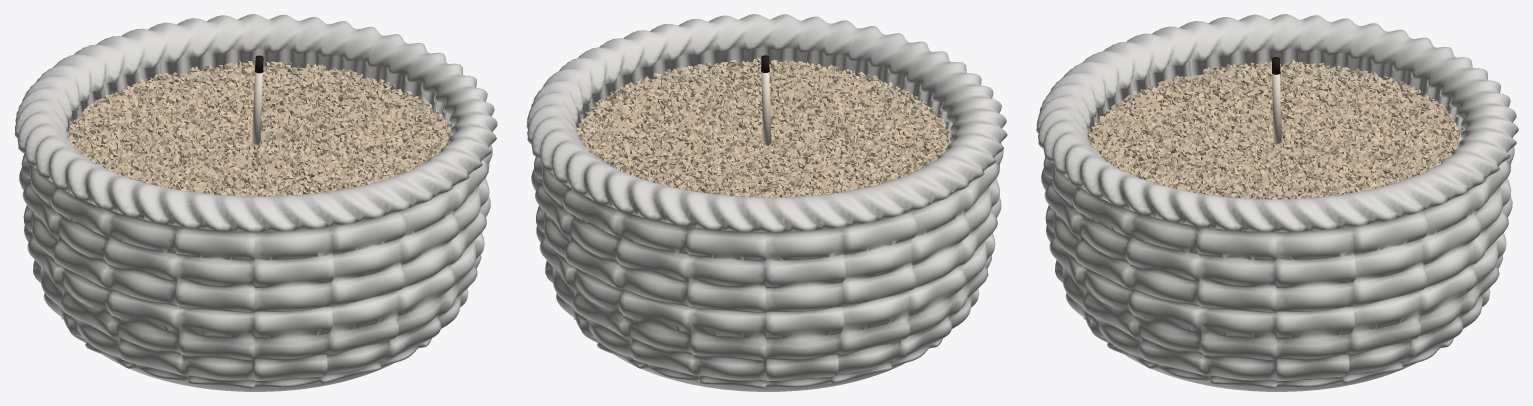
File: ninho.glb
The picture shows the model from 3 angles, left to right: view 1: azimuth 30°, elevation 25°; view 2: azimuth 150°, elevation 25°; view 3: azimuth 270°, elevation 25°; orthographic projection.
Visible parts, largest first — view 1: Ninho, Areia, Pavio0; view 2: Ninho, Areia, Pavio0; view 3: Ninho, Areia, Pavio0.
Part boxes in pixels (bbox=[...]): Ninho: bbox=[14, 14, 497, 391]; Areia: bbox=[67, 60, 451, 196]; Pavio0: bbox=[251, 72, 262, 148]; Ninho: bbox=[526, 14, 1007, 391]; Areia: bbox=[577, 58, 951, 197]; Pavio0: bbox=[761, 72, 771, 149]; Ninho: bbox=[1036, 14, 1518, 391]; Areia: bbox=[1088, 59, 1462, 199]; Pavio0: bbox=[1272, 74, 1281, 147].
Bounding box in the file's own units: 0.1221 × 0.075 × 0.1222.
